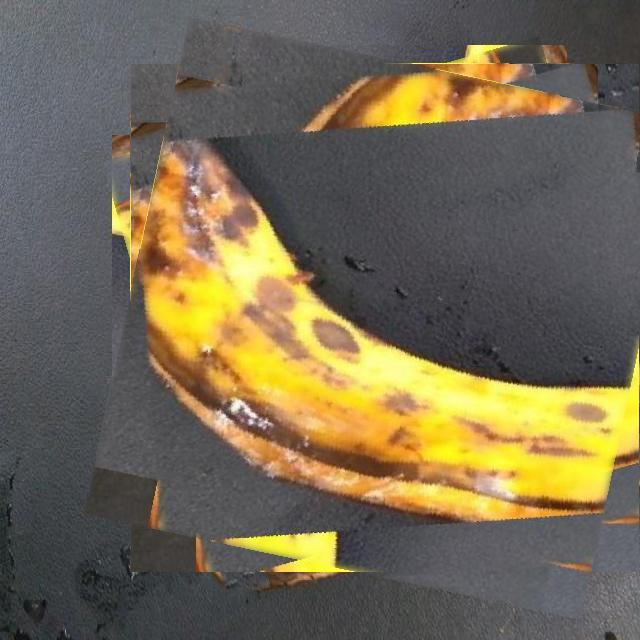Podre: (106, 39, 640, 595)
